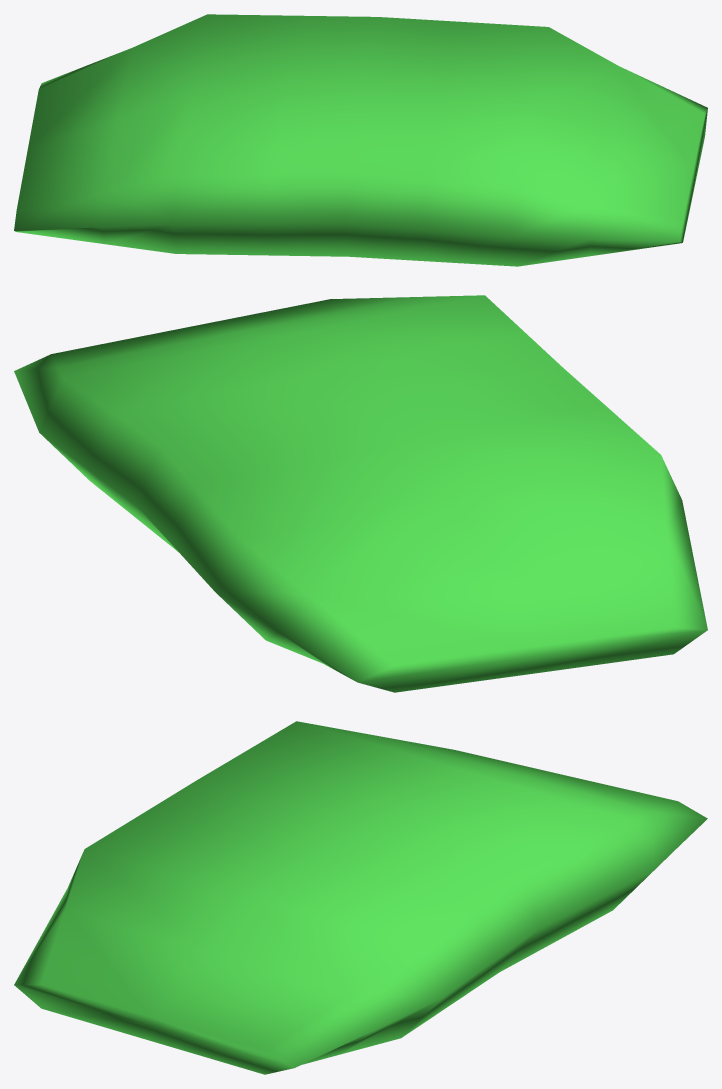
The model's file is sack1.fbx.
3 views of the same model, one above another, from view 1: azimuth 30°, elevation 25°; view 2: azimuth 150°, elevation 25°; view 3: azimuth 270°, elevation 25° (orthographic). The views are drawn at different scales.
Parts seen in each view (by area): view 1: sack1; view 2: sack1; view 3: sack1.
Part boxes in pixels (<box>): sack1: <box>14,14,707,266</box>; sack1: <box>14,295,707,692</box>; sack1: <box>14,721,707,1074</box>.
Size of the model in its own units: 121 by 17.74 by 106.
